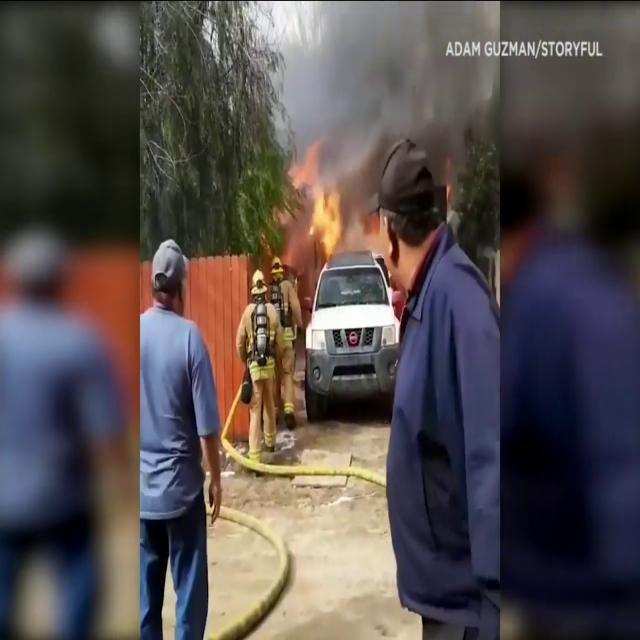Fire: (290, 158, 389, 267)
Smoke: (500, 1, 640, 606), (286, 3, 499, 196)
